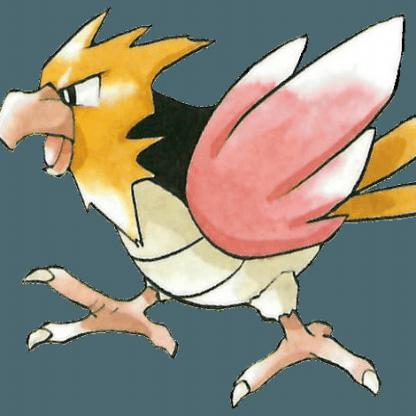Spearow: (3, 12, 416, 404)
